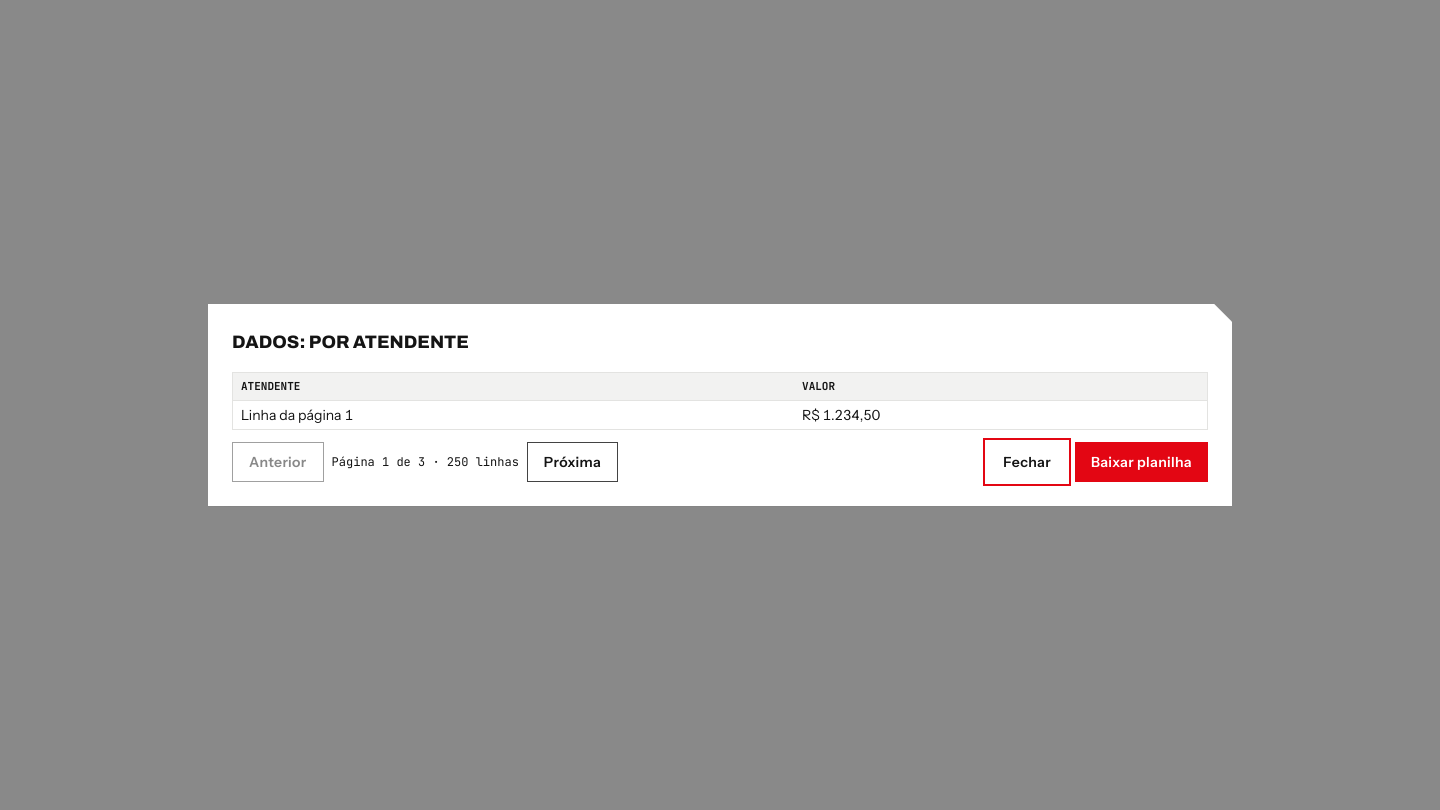
Test: DataRowsDialog › paginates 100 rows at a time with the visual filters
Expected: the text "Página 1 de 3 · 250 linhas" is shown, [332, 454, 519, 470]
Click the button "Próxima". click: (572, 462)
box: [527, 442, 618, 482]
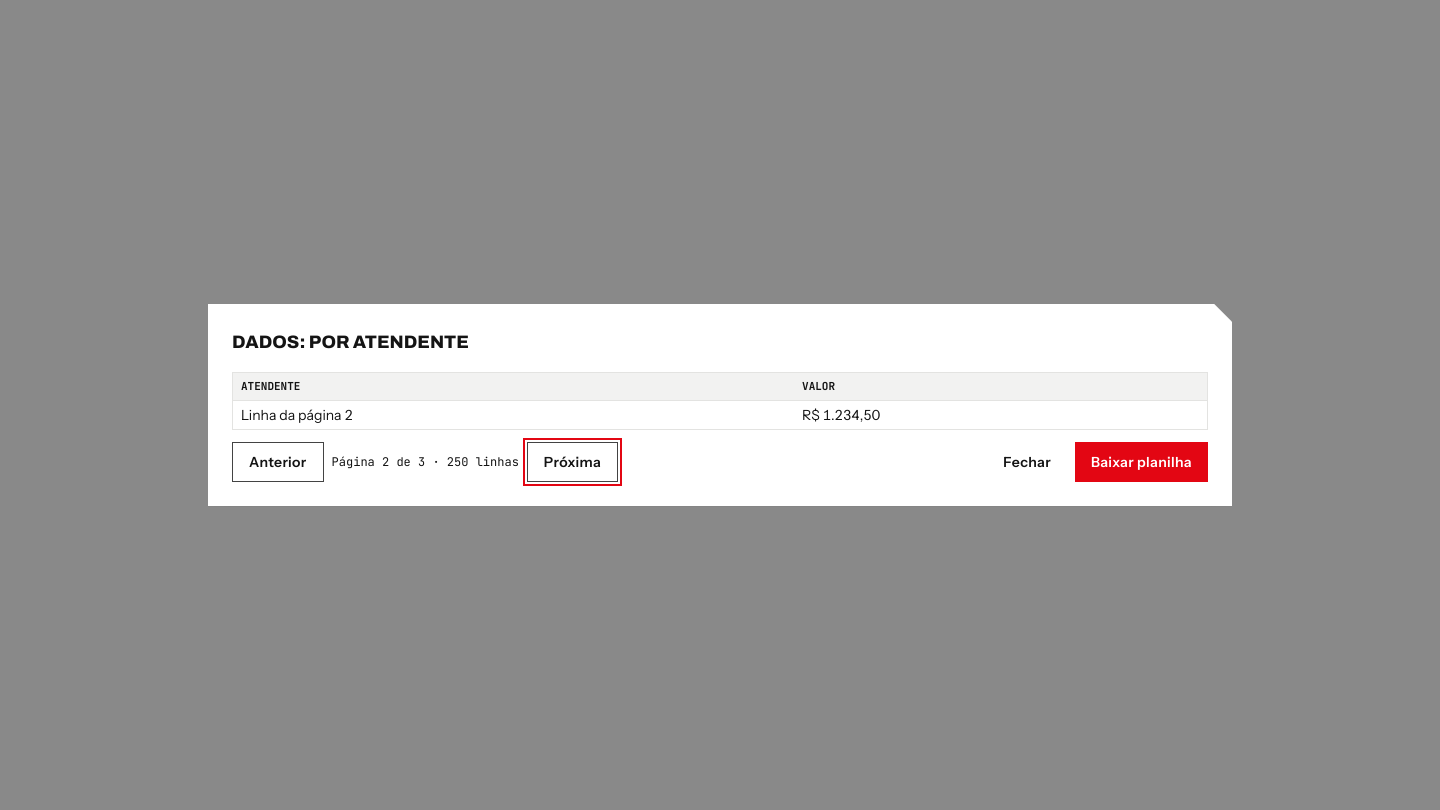
Expected: the text "Linha da página 2" is shown, [233, 401, 794, 429]
